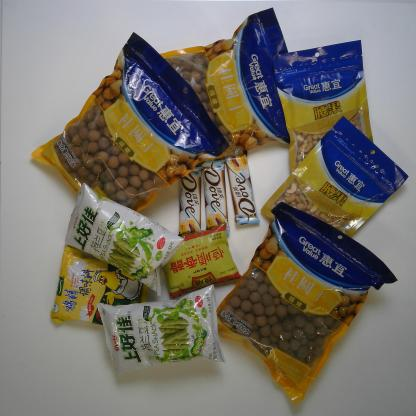Chocolate: (221, 144, 262, 227), (200, 156, 233, 239), (174, 162, 205, 243)
Dried Food: (26, 29, 235, 222), (214, 200, 400, 406), (149, 4, 299, 172)
Dried Fruit: (259, 113, 411, 243), (266, 35, 378, 179)
Puffed Food: (61, 180, 186, 298), (94, 281, 228, 384)
Seasoner: (48, 242, 153, 330), (162, 218, 244, 303)
